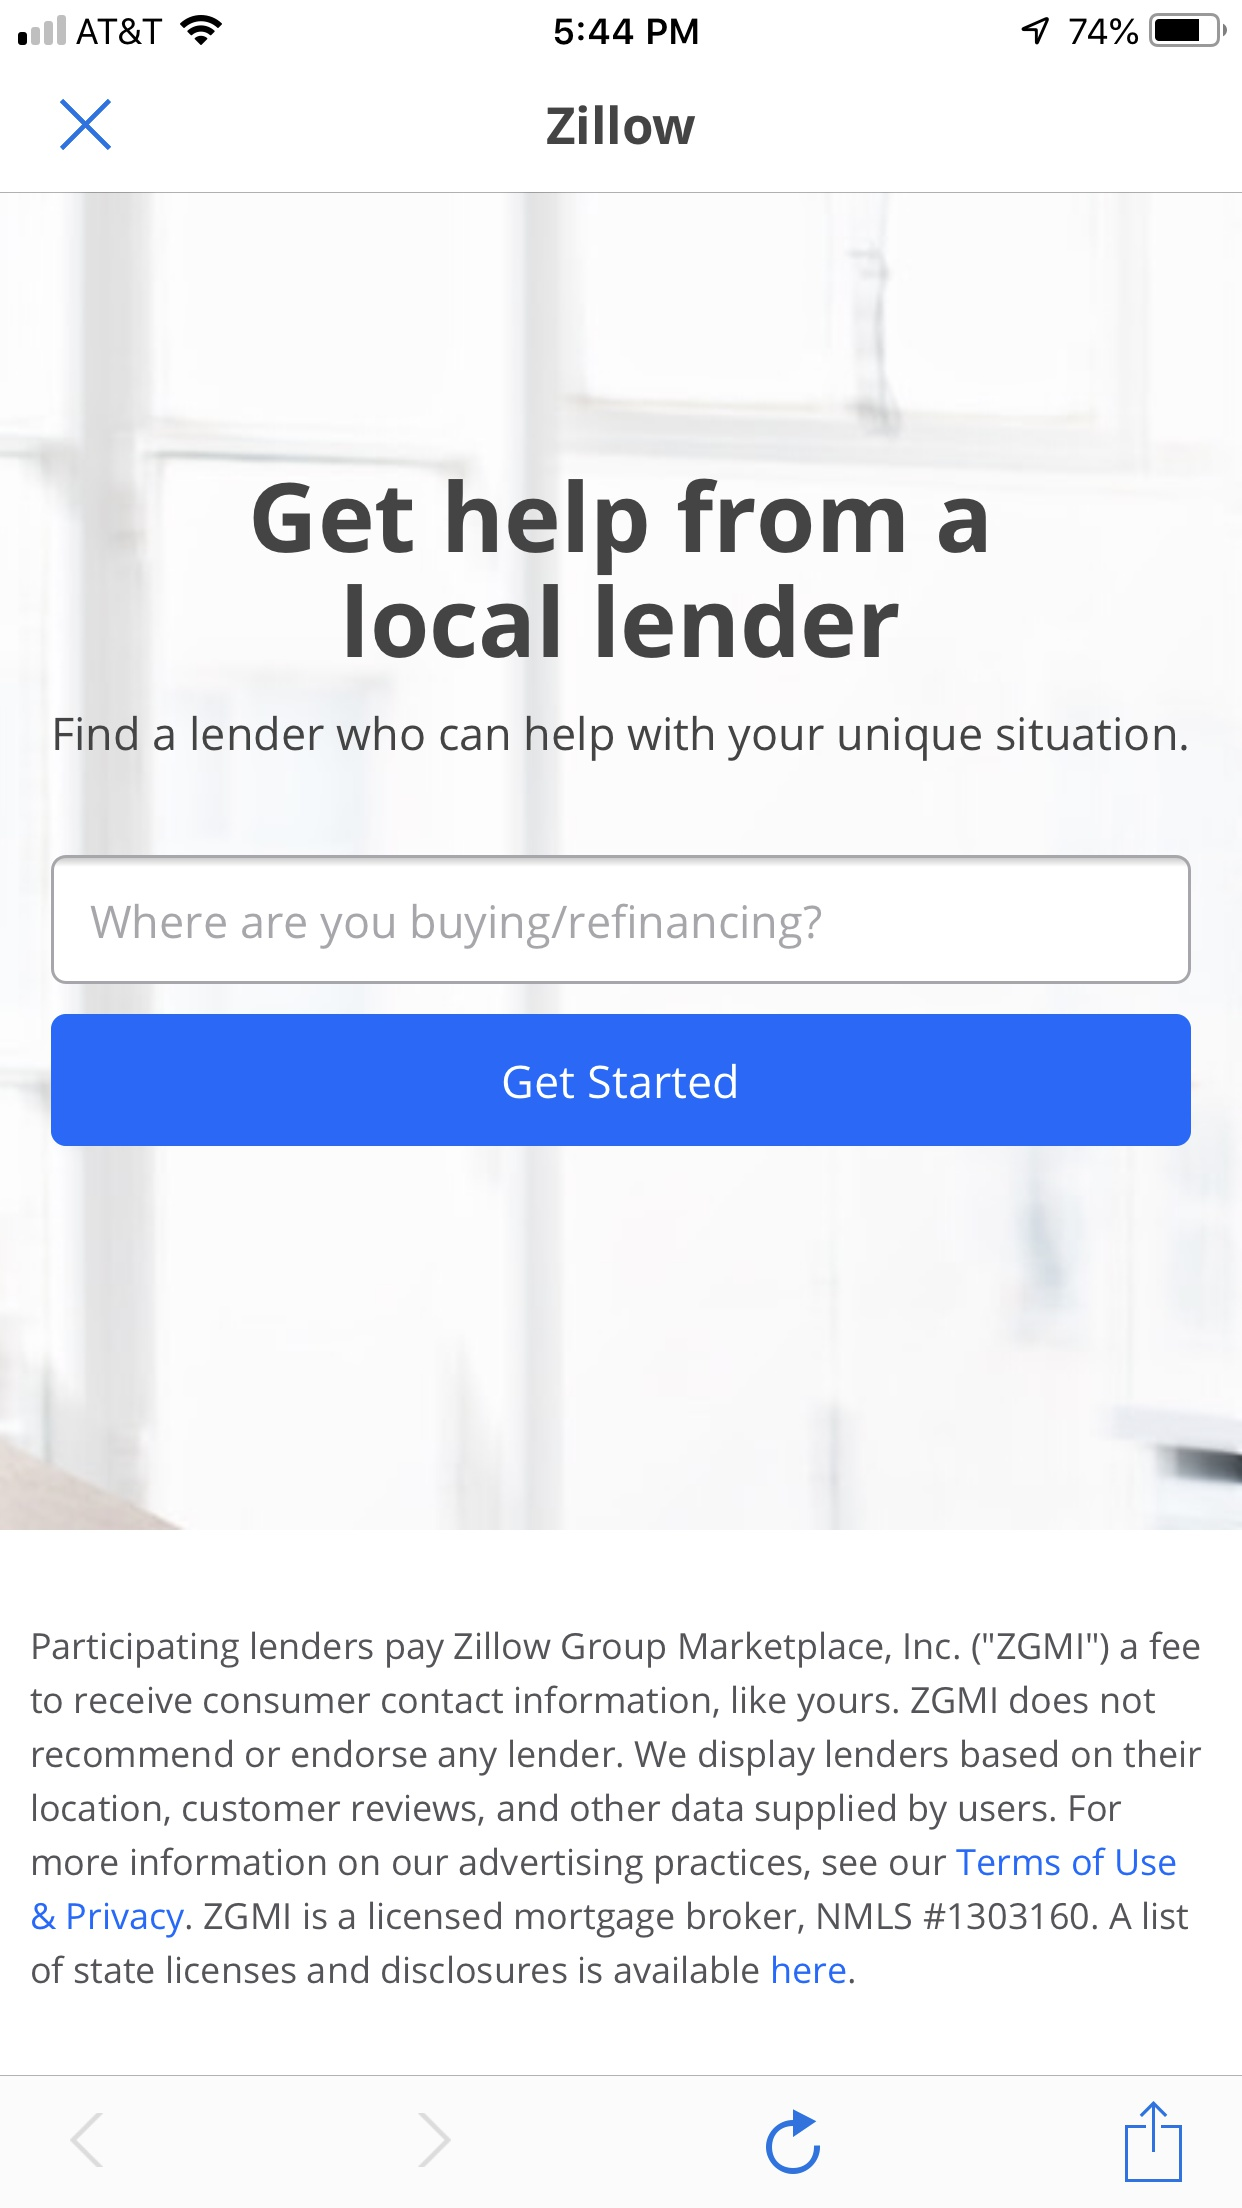EditText: (52, 854, 1192, 986)
Icon: (1124, 2099, 1183, 2184), (766, 2108, 822, 2175), (61, 99, 114, 152), (417, 2111, 453, 2169), (70, 2111, 105, 2169)
Image: (2, 193, 1242, 1532)
Text: (30, 1630, 1189, 1985), (253, 478, 987, 660), (55, 714, 1187, 761), (91, 904, 822, 949), (546, 105, 696, 147)
TextButton: (52, 1013, 1192, 1146)
UpperTaskBar: (2, 2, 1242, 49)
